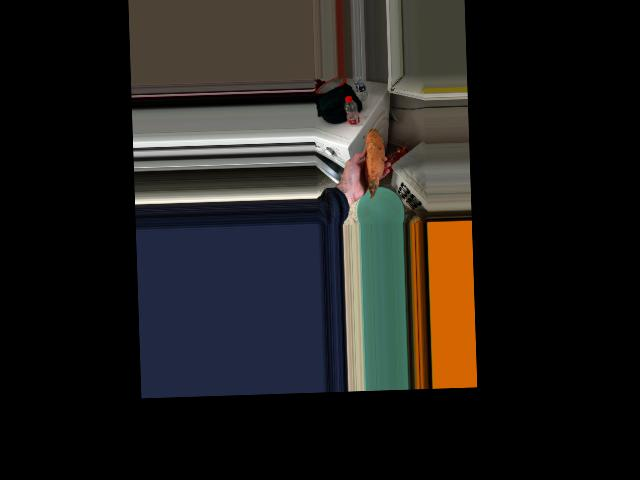sweet_potato: (359, 122, 385, 184)
